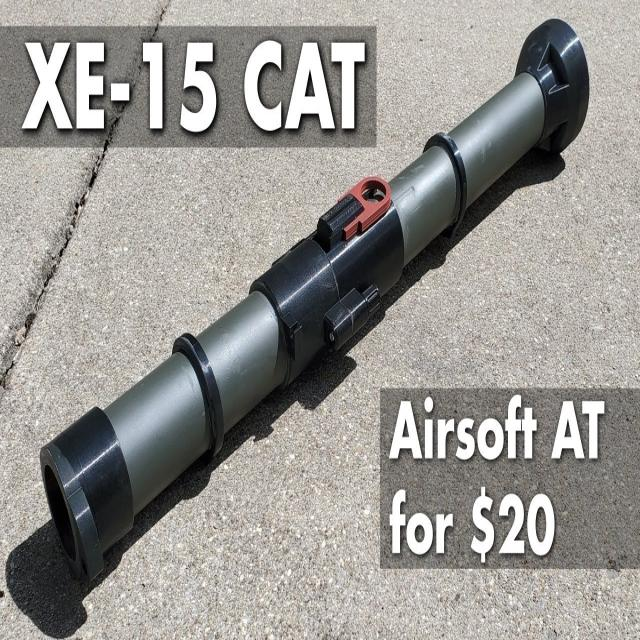bazooka: (42, 14, 591, 592)
